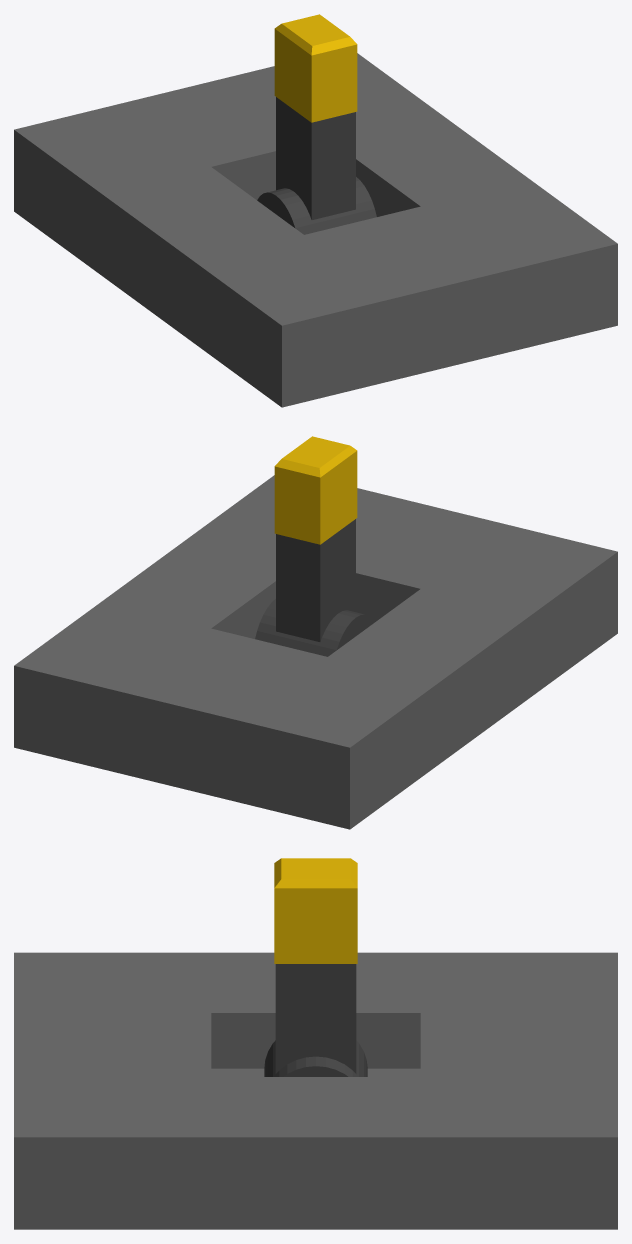
The model's file is YellowSwitch.glb.
The picture shows the model from 3 angles, top to bottom: view 1: azimuth 30°, elevation 25°; view 2: azimuth 150°, elevation 25°; view 3: azimuth 270°, elevation 25°; orthographic projection. The views are drawn at different scales.
Visible parts, largest first — view 1: Base, Switch, Cube; view 2: Base, Switch, Cube; view 3: Base, Switch, Cube.
Part boxes in pixels (x1=…): Base: x1=14, y1=53, x2=617, y2=407; Switch: x1=257, y1=97, x2=376, y2=234; Cube: x1=274, y1=14, x2=357, y2=122; Base: x1=14, y1=475, x2=617, y2=829; Switch: x1=255, y1=519, x2=374, y2=656; Cube: x1=274, y1=436, x2=357, y2=544; Base: x1=14, y1=952, x2=617, y2=1229; Switch: x1=264, y1=964, x2=367, y2=1076; Cube: x1=274, y1=858, x2=357, y2=963.
Size of the model in its own units: 0.0463 by 0.0315 by 0.0639.
